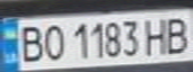1: (66, 19, 90, 60), (87, 19, 106, 58)
3: (121, 17, 142, 57)
8: (103, 18, 124, 58)
B: (160, 13, 193, 55), (15, 22, 48, 64)
H: (142, 15, 172, 56)
O: (39, 21, 69, 62)
